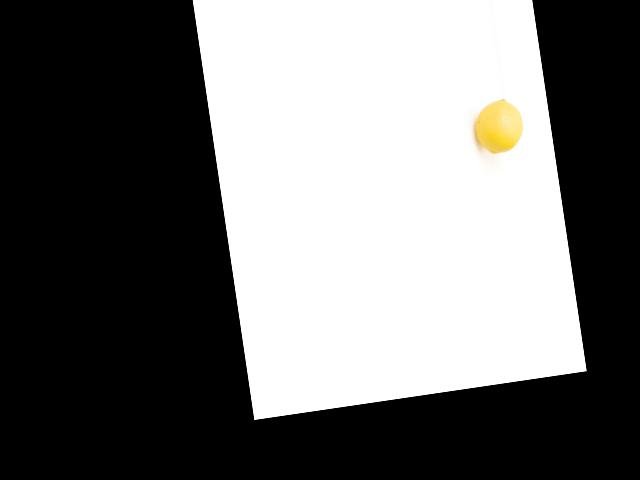lemon: (464, 96, 528, 163)
